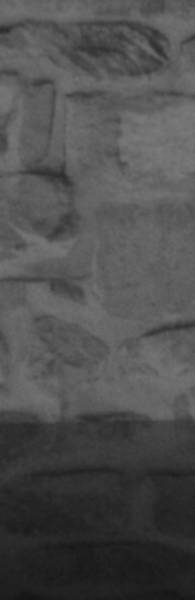water: (0, 422, 195, 600)
